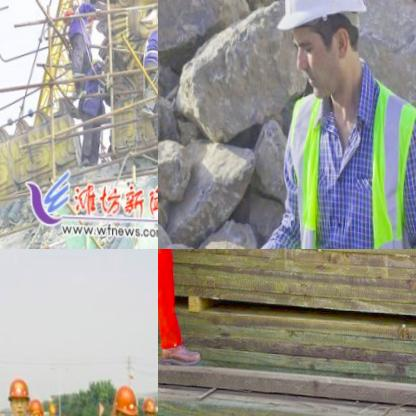helmet: (268, 0, 377, 110), (5, 371, 30, 416), (110, 381, 138, 416), (58, 4, 78, 28), (140, 390, 157, 416), (28, 391, 43, 416)
